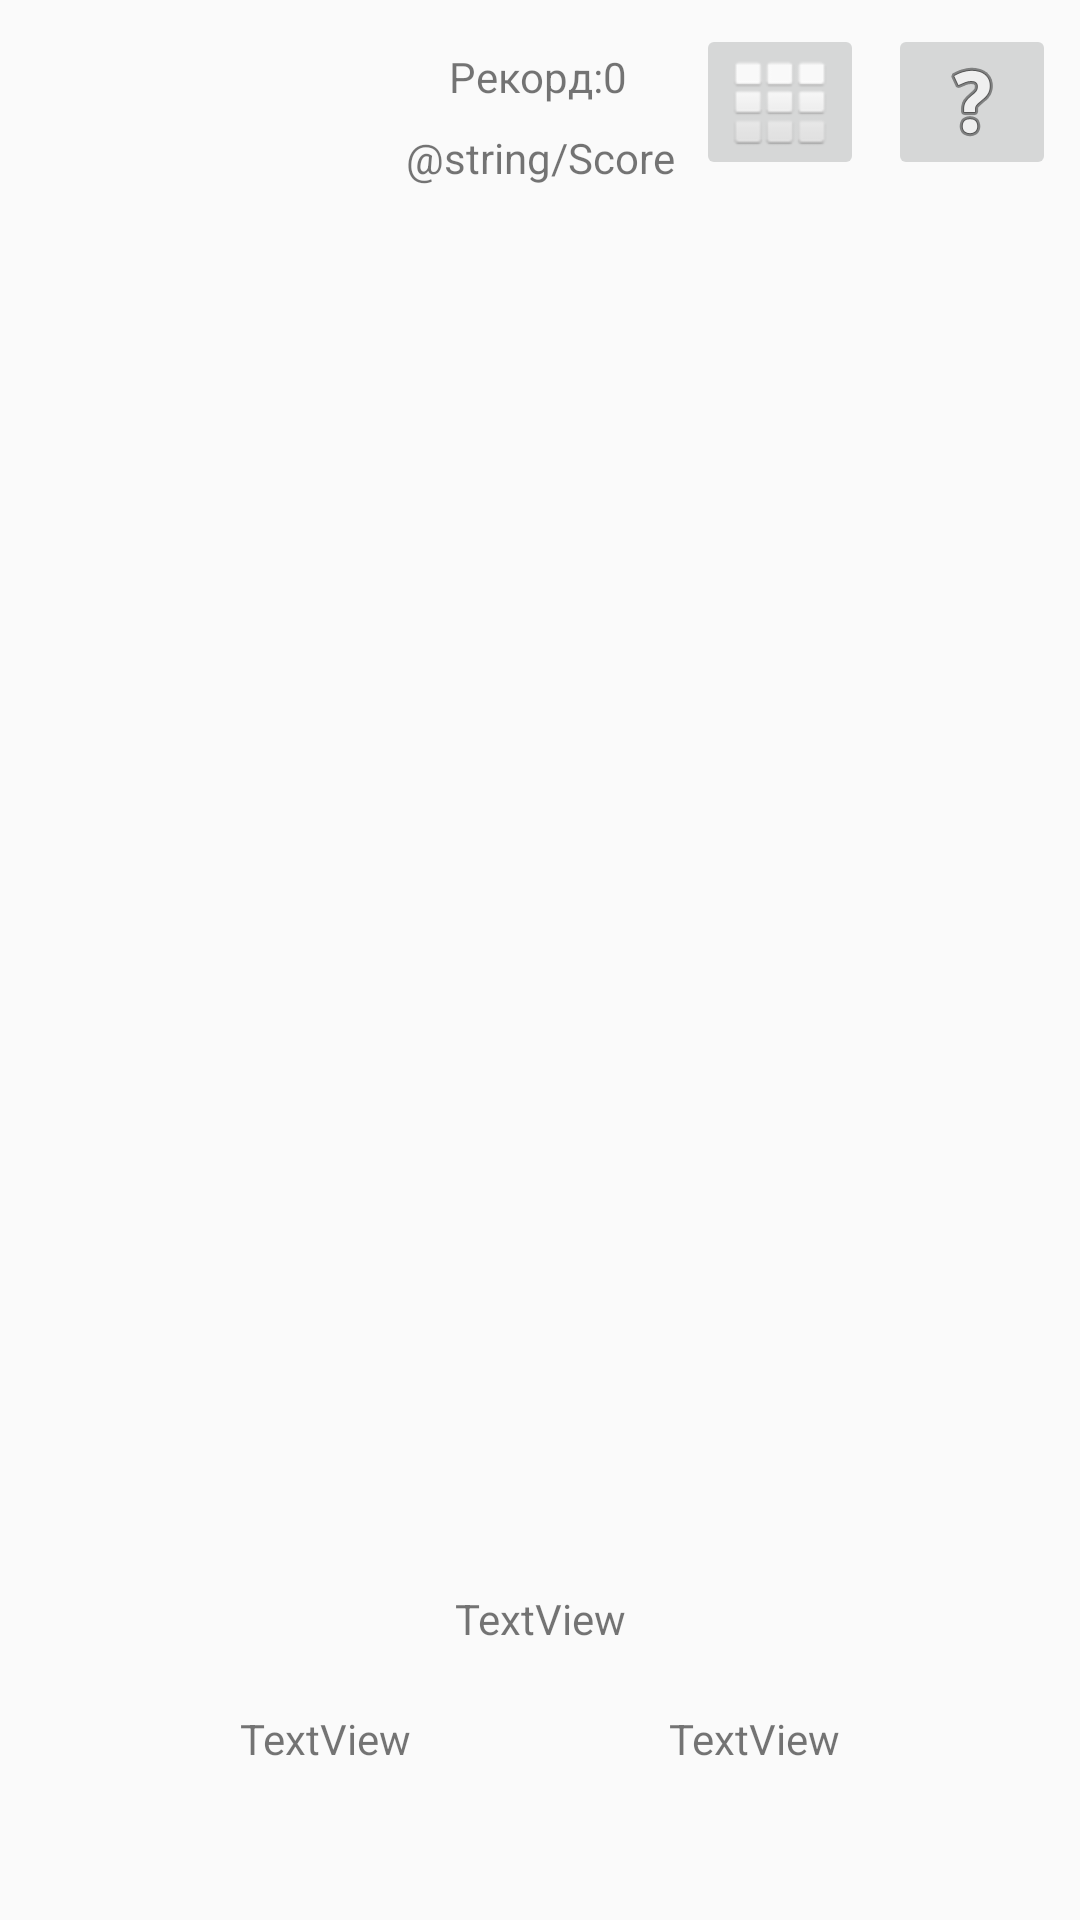

Locate icon controls on the screen. Image size 1080×1920, boxes as BBox(x1, y1, x2, y2).
dialer: BBox(708, 42, 852, 162)
help: BBox(900, 42, 1044, 162)
